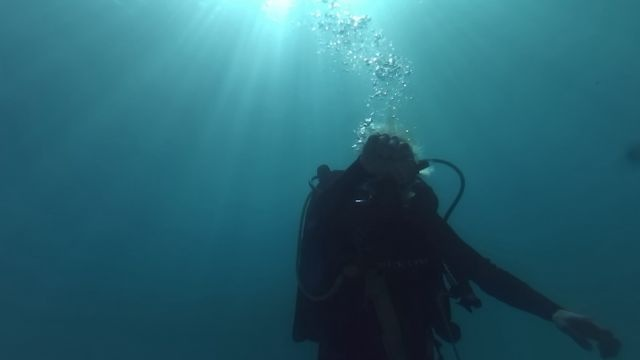Diver: (275, 123, 627, 355)
